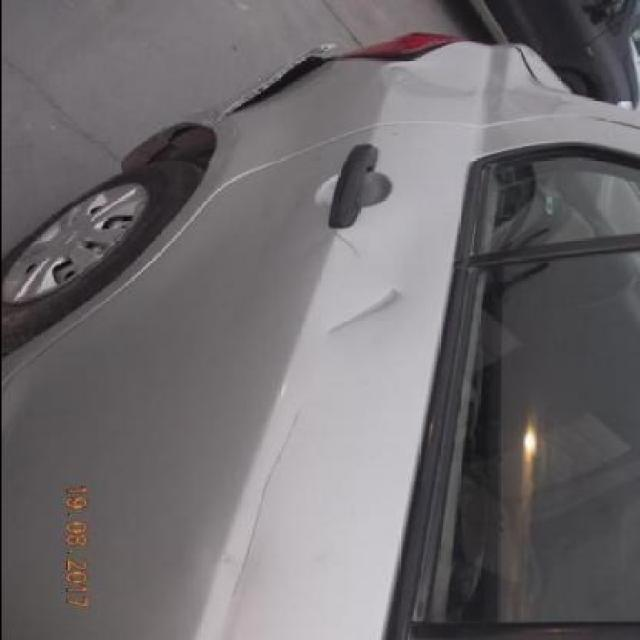damage: (217, 407, 306, 622), (217, 48, 336, 129), (323, 285, 402, 341)
